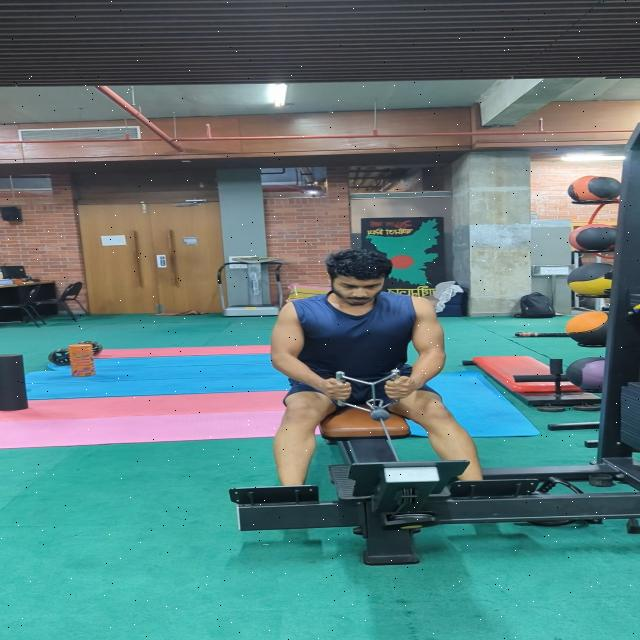Normal_RowingMachineExercise: (269, 247, 485, 489)
